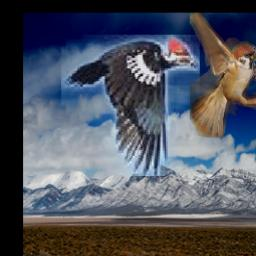Sparrow: (191, 13, 256, 138)
Woodpecker: (61, 36, 200, 177)
